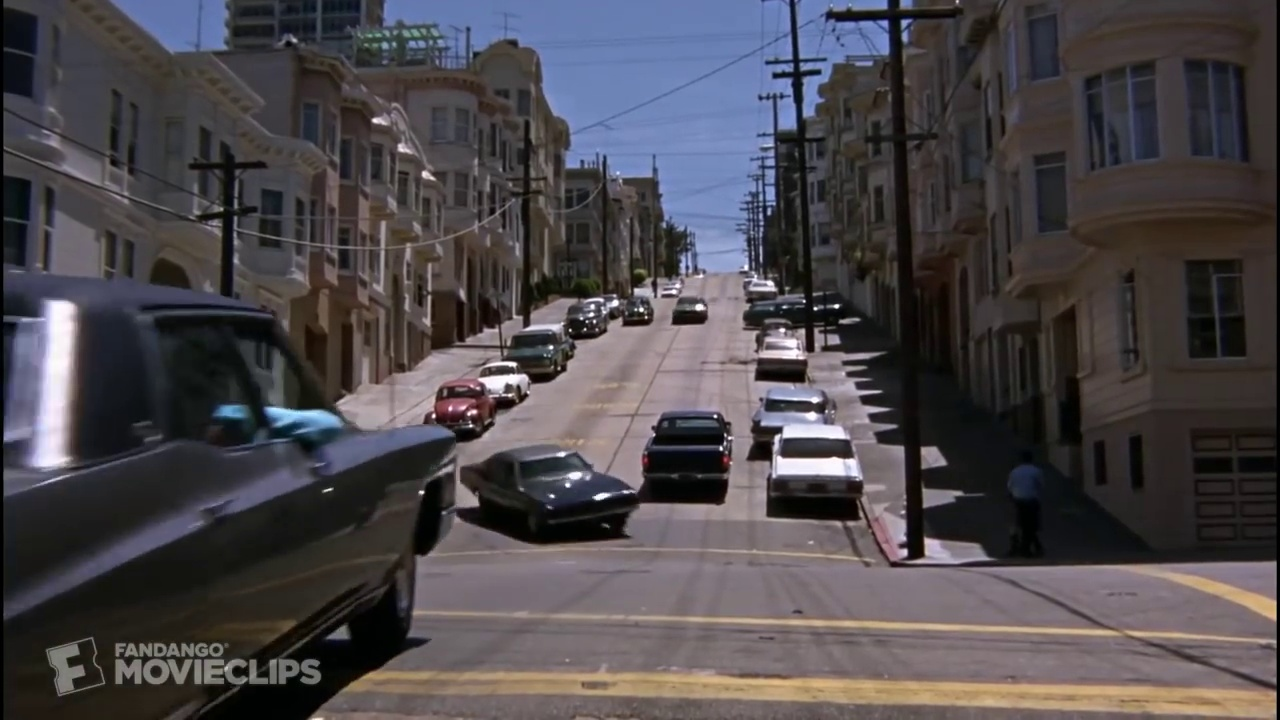car: (1, 265, 475, 720), (454, 437, 644, 546), (759, 420, 874, 520), (751, 382, 842, 456), (414, 376, 508, 443), (456, 353, 538, 408), (735, 293, 850, 330), (744, 335, 817, 382), (560, 296, 614, 338), (662, 288, 714, 328), (617, 293, 660, 328), (736, 274, 781, 307), (656, 283, 685, 298)
person: (162, 335, 356, 461), (994, 445, 1056, 562)
truck: (635, 402, 742, 499), (503, 317, 584, 388)
